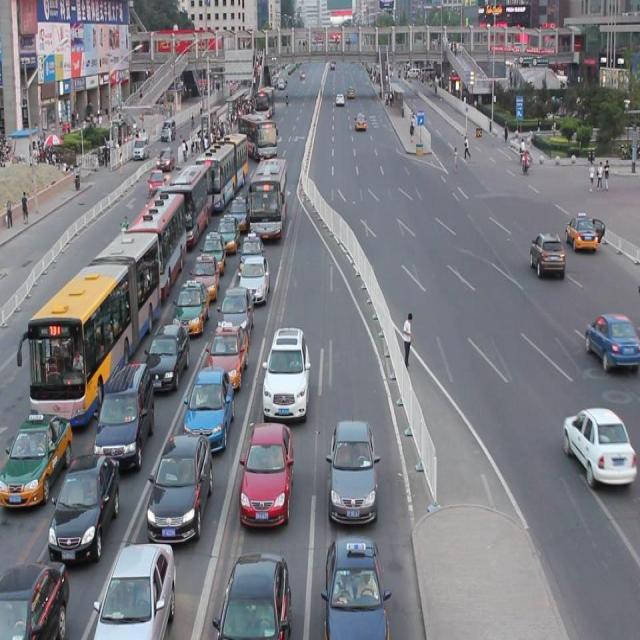car: (94, 538, 175, 640), (48, 452, 120, 554), (321, 535, 389, 640), (148, 428, 213, 536), (214, 551, 290, 640), (0, 411, 70, 503), (94, 358, 154, 461), (562, 406, 640, 484), (0, 554, 68, 640), (327, 417, 380, 517), (240, 422, 294, 517), (262, 325, 310, 415), (185, 364, 233, 442), (584, 314, 640, 372), (146, 317, 189, 386), (205, 320, 248, 384), (218, 284, 254, 339), (174, 278, 210, 330), (564, 211, 604, 251), (529, 232, 564, 276), (241, 252, 270, 298), (190, 250, 220, 294), (200, 229, 226, 269), (240, 228, 263, 270), (216, 210, 239, 246), (227, 191, 250, 226), (148, 167, 166, 193), (156, 148, 176, 171), (354, 114, 366, 130)
van: (16, 230, 160, 421), (123, 187, 186, 296), (197, 125, 247, 203), (247, 155, 288, 237), (168, 158, 208, 241), (238, 113, 278, 162)
